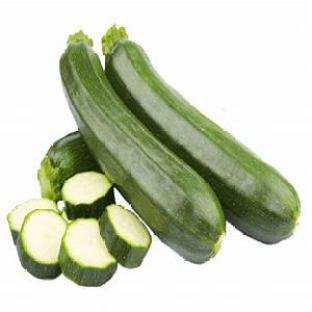Zucchini: (102, 27, 299, 243), (61, 38, 224, 263), (38, 132, 100, 200), (60, 219, 116, 285), (17, 209, 66, 278), (99, 204, 150, 268), (62, 172, 114, 219), (8, 199, 59, 243), (61, 209, 71, 223)
